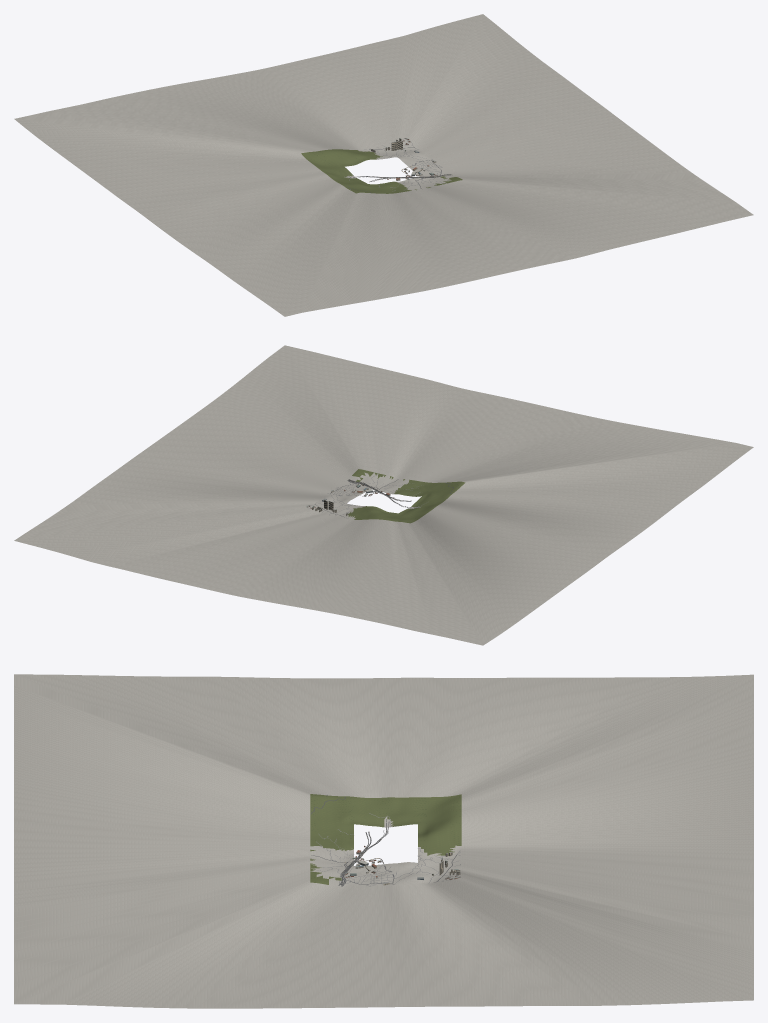
The picture shows the model from 3 angles, top to bottom: view 1: azimuth 30°, elevation 25°; view 2: azimuth 150°, elevation 25°; view 3: azimuth 270°, elevation 25°; orthographic projection. The views are drawn at different scales.
Visible parts, largest first — view 1: ctx-ground; view 2: ctx-ground; view 3: ctx-ground, ctx-streets.
Boxes of the visible parts, x1=… form: ctx-ground: x1=14, y1=14, x2=753, y2=316; ctx-ground: x1=14, y1=345, x2=753, y2=645; ctx-ground: x1=14, y1=674, x2=753, y2=1008; ctx-streets: x1=313, y1=813, x2=460, y2=886.
Size of the model in its own units: 7600 by 248 by 7600.
18 materials, 16 textured.
